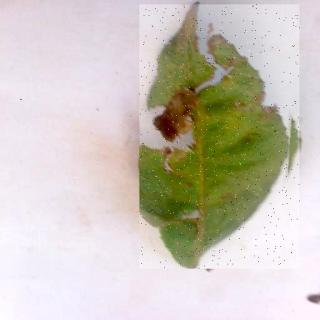Brown Blight: (141, 5, 302, 270)
